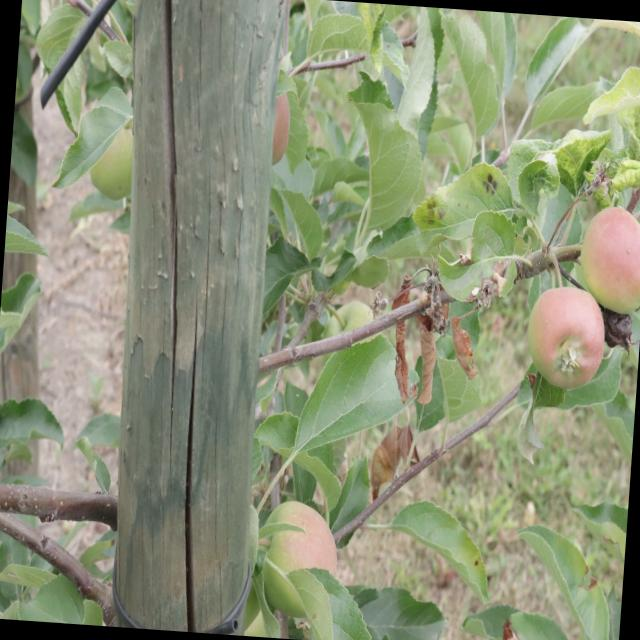-FireBlight-: (385, 280, 448, 402), (369, 429, 421, 487)
